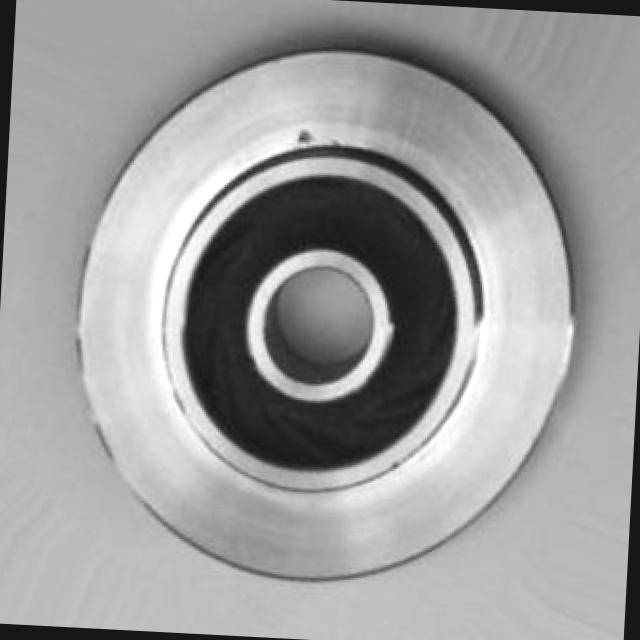Defect: (296, 126, 316, 144)
